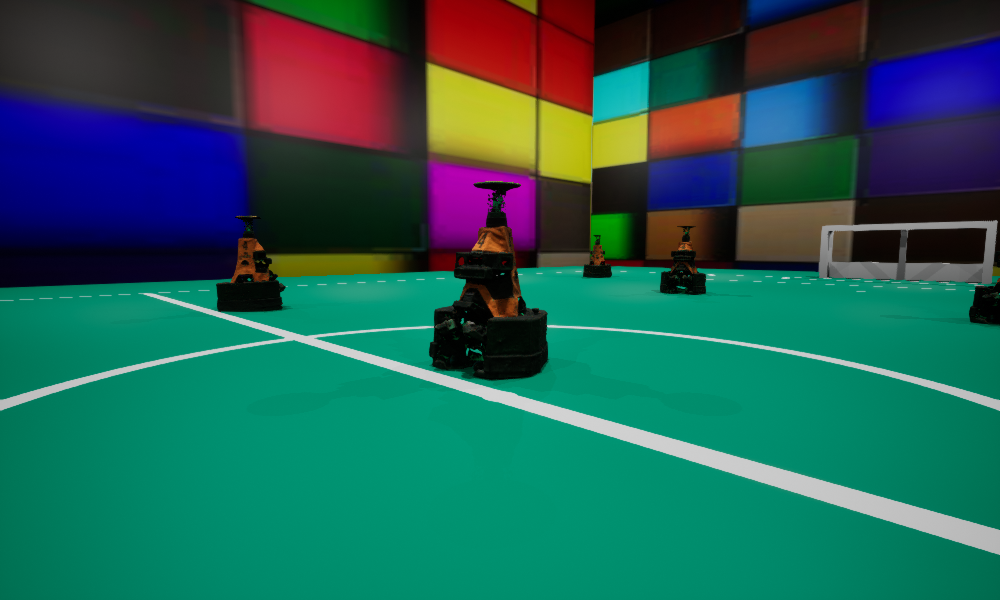o: (429, 181, 547, 377), (216, 216, 285, 311), (660, 226, 705, 293), (969, 251, 999, 323), (583, 235, 611, 277)
